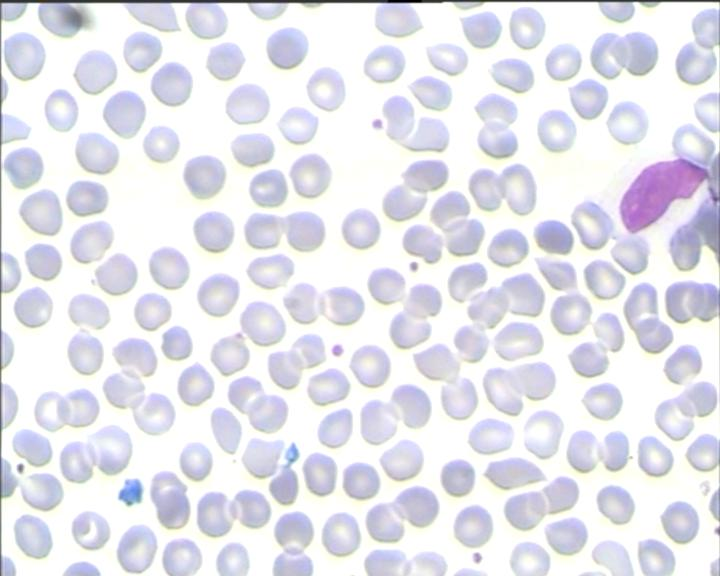mono: (596, 142, 712, 247)
